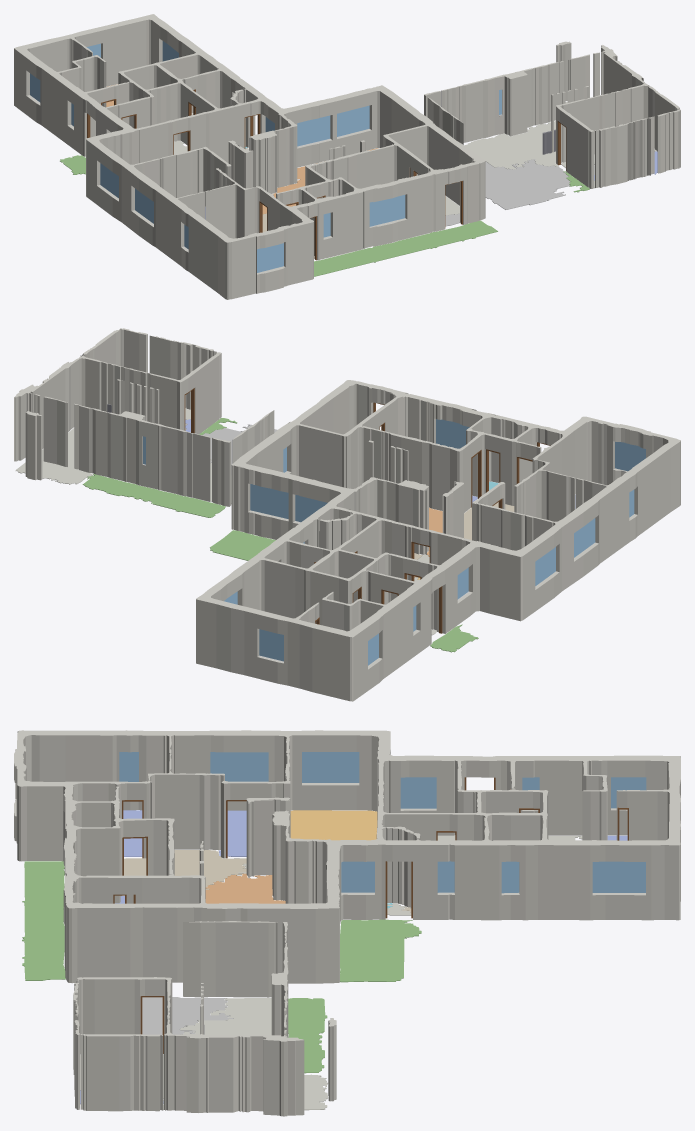
3 views of the same model, one above another, from view 1: azimuth 30°, elevation 25°; view 2: azimuth 150°, elevation 25°; view 3: azimuth 270°, elevation 25° (orthographic). The views are drawn at different scales.
Visible parts, largest first — view 1: walls, floor_29_Garage, floor_0_Outdoor, floor_38_Undefined, window_36, window_29, window_30, window_37; view 2: walls, floor_2_Outdoor, floor_38_Undefined, floor_3_Outdoor, window_30, window_36, window_37, window_20, floor_4_Outdoor; view 3: walls, floor_0_Outdoor, floor_3_Outdoor, floor_38_Undefined, floor_6_Kitchen, floor_29_Garage, floor_22_Entry, floor_2_Outdoor, floor_8_Living_Room, window_28, window_22, window_32 (+6 smaller).
Part boxes in pixels (bbox=[...]): walls: bbox=[14, 14, 680, 299]; floor_29_Garage: bbox=[485, 159, 570, 209]; floor_0_Outdoor: bbox=[314, 220, 497, 276]; floor_38_Undefined: bbox=[464, 101, 567, 169]; window_36: bbox=[369, 195, 405, 226]; window_29: bbox=[297, 115, 330, 146]; window_30: bbox=[337, 105, 369, 136]; window_37: bbox=[257, 243, 283, 272]; walls: bbox=[14, 328, 680, 701]; floor_2_Outdoor: bbox=[82, 474, 225, 517]; floor_38_Undefined: bbox=[15, 428, 231, 503]; floor_3_Outdoor: bbox=[210, 530, 275, 560]; window_30: bbox=[250, 484, 288, 518]; window_36: bbox=[436, 419, 469, 448]; window_37: bbox=[615, 442, 645, 471]; window_20: bbox=[259, 629, 283, 661]; floor_4_Outdoor: bbox=[430, 624, 478, 652]; walls: bbox=[14, 730, 680, 1116]; floor_0_Outdoor: bbox=[22, 861, 65, 980]; floor_3_Outdoor: bbox=[340, 919, 421, 982]; floor_38_Undefined: bbox=[180, 998, 328, 1110]; floor_6_Kitchen: bbox=[290, 810, 377, 840]; floor_29_Garage: bbox=[142, 997, 233, 1034]; floor_22_Entry: bbox=[124, 850, 246, 889]; floor_2_Outdoor: bbox=[288, 998, 327, 1073]; floor_8_Living_Room: bbox=[205, 873, 285, 903]; window_28: bbox=[302, 752, 359, 782]; window_22: bbox=[592, 861, 645, 892]; window_32: bbox=[210, 752, 268, 781].
Size of the model in its own units: 24.08 by 2.72 by 21.81.
